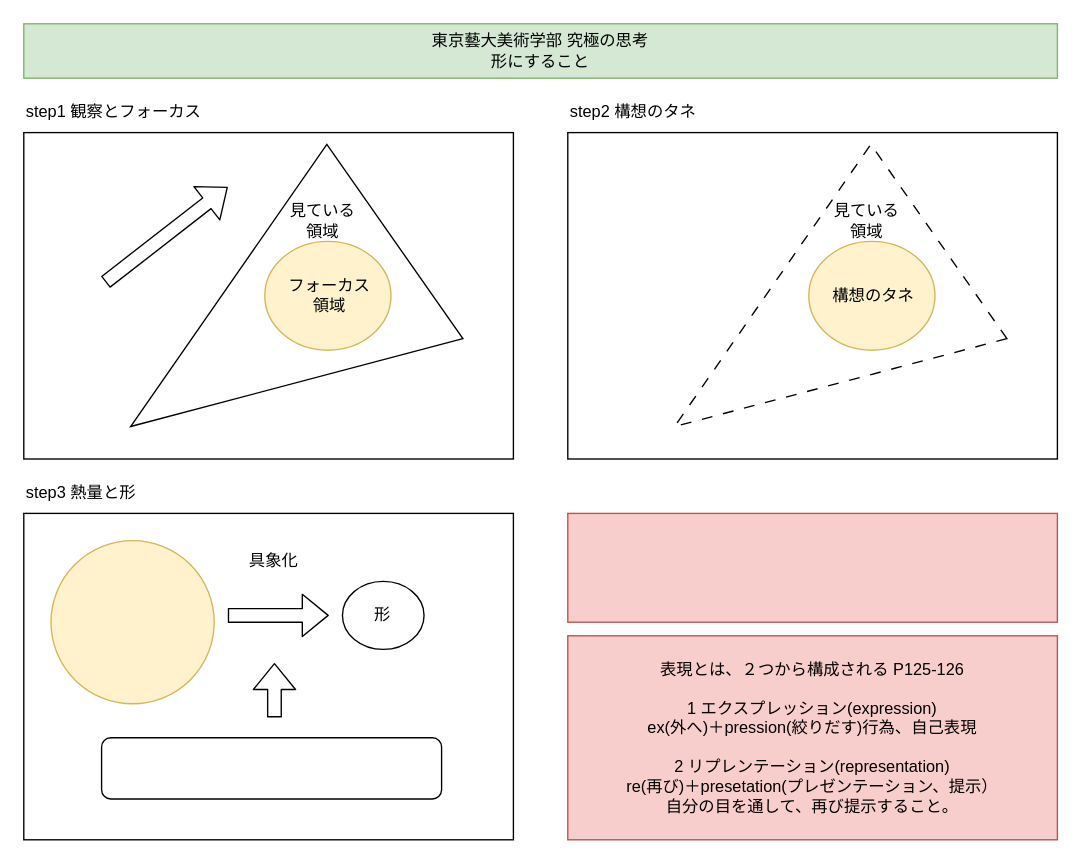
Some shapes in this 1081 by 864 pixel diagram are drawn without their labels. Here are the shapes that lost their labels. From the top down, the box of each, then its label:
(566, 512, 1057, 622): 観察＝構想のタネ ＋ 膨大な熱量 ⇒ "形＝作品"
(50, 539, 214, 704): 構想のタネ ↓ 構想
(100, 736, 442, 799): 膨大な熱量 やり切る意志の強さ
